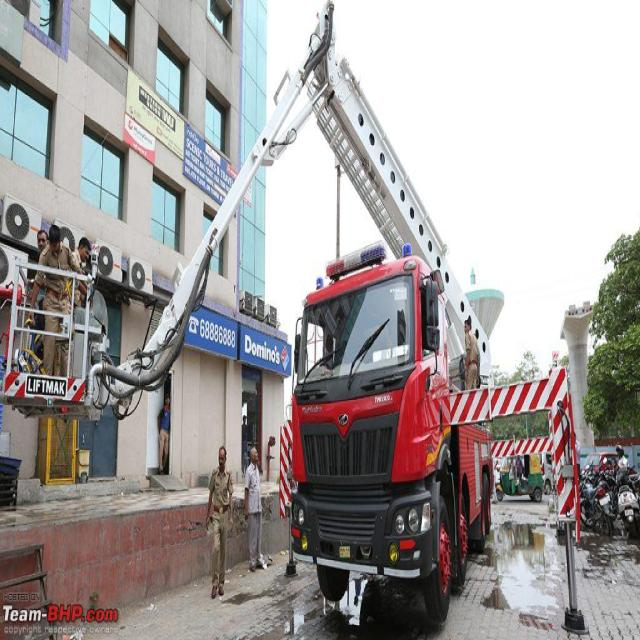emergency: (291, 8, 490, 621)
